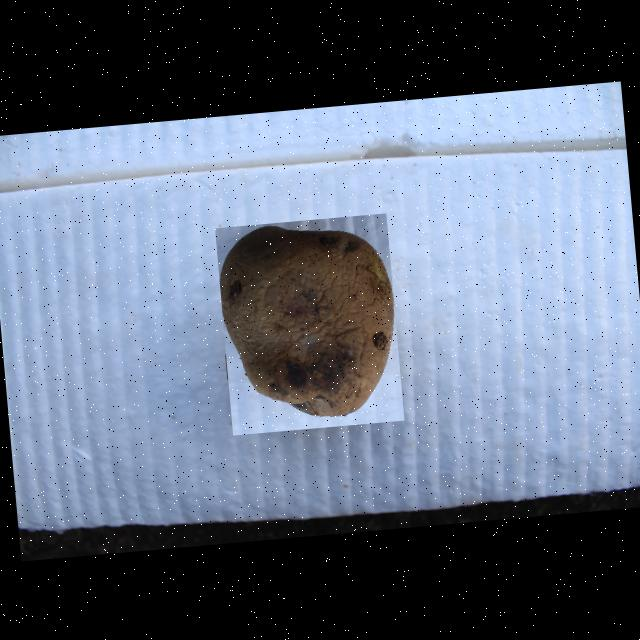Defected potato: (214, 212, 402, 434)
